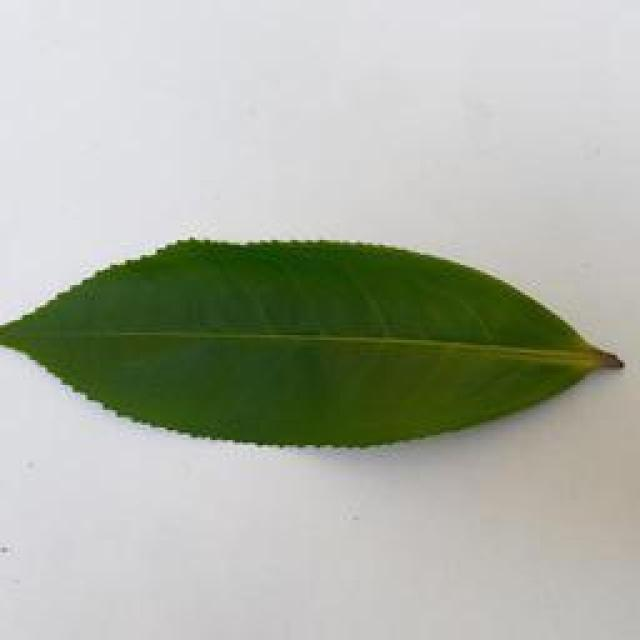Healthy: (0, 241, 640, 441)
